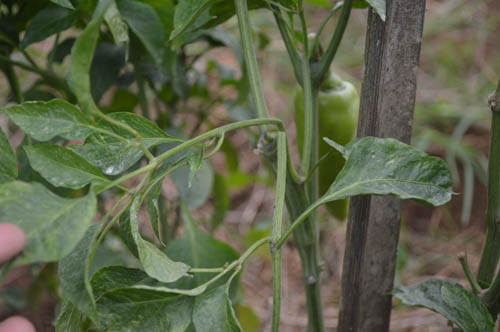ChiliPepper: (294, 87, 358, 224)
